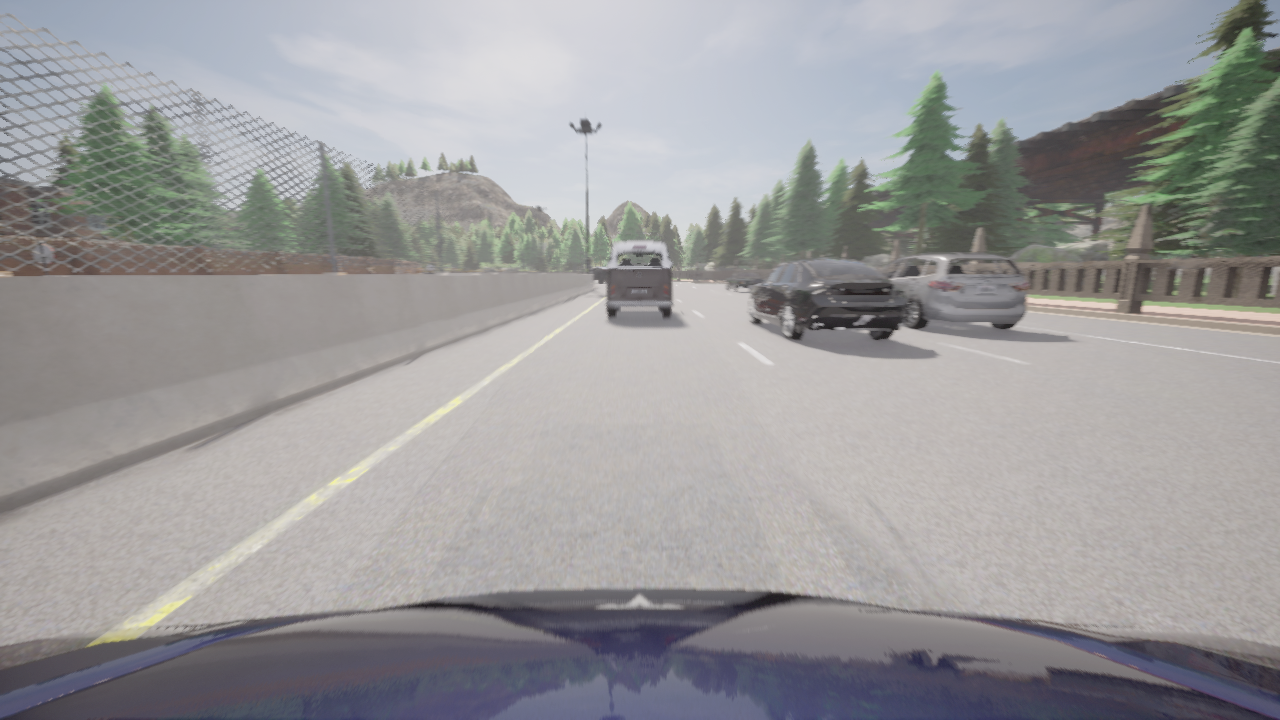cyclist: (0, 588, 1279, 719), (748, 257, 905, 340), (881, 252, 1028, 328), (606, 241, 672, 317), (725, 272, 765, 291), (593, 266, 607, 282)
